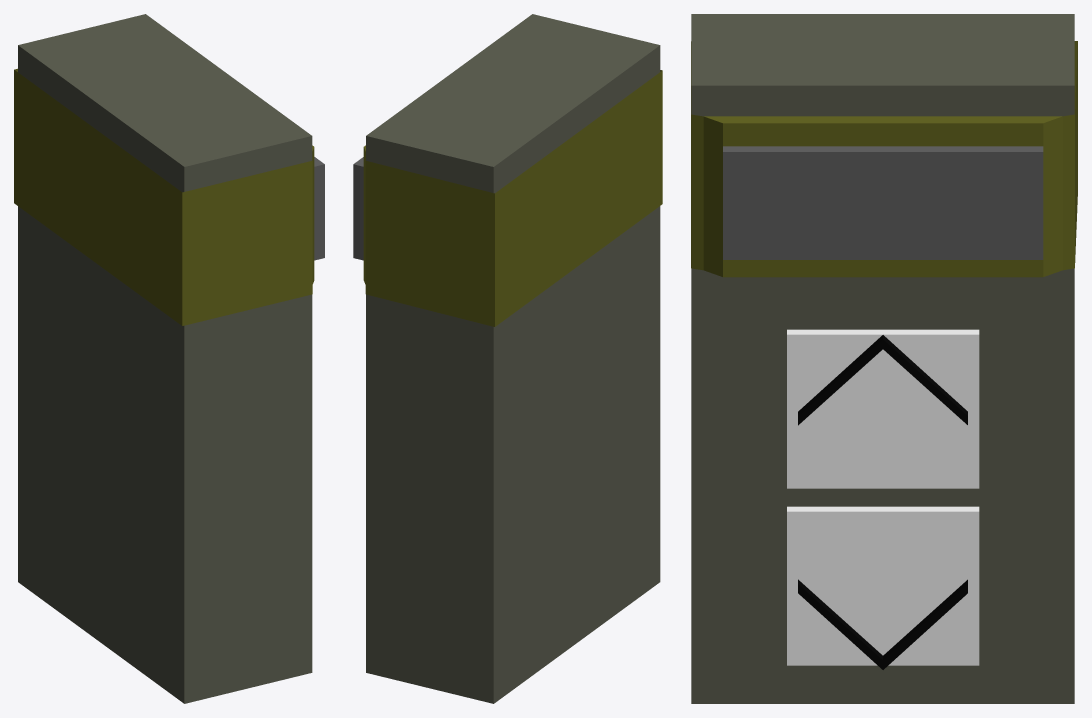
Rendered from Keypad.fbx.
The picture shows the model from 3 angles, left to right: view 1: azimuth 30°, elevation 25°; view 2: azimuth 150°, elevation 25°; view 3: azimuth 270°, elevation 25°; orthographic projection. The views are drawn at different scales.
Visible parts, largest first — view 1: Cube, Plane; view 2: Cube, Plane; view 3: Cube, Plane, Button 2, Button 1.
Part boxes in pixels (x1,y1,x2,y2): Cube: [18, 14, 312, 703]; Plane: [14, 68, 324, 325]; Cube: [366, 14, 660, 703]; Plane: [353, 70, 662, 326]; Cube: [691, 14, 1074, 703]; Plane: [691, 41, 1077, 277]; Button 2: [787, 506, 979, 669]; Button 1: [787, 329, 979, 488].
Size of the model in its own units: 245 by 803 by 455.
